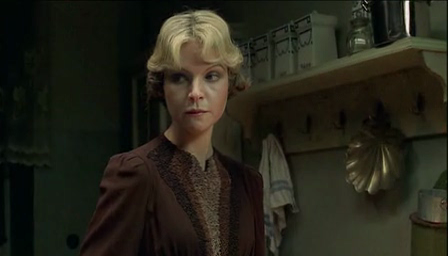face: (165, 48, 228, 131)
mcu: (1, 1, 448, 256)
person: (78, 8, 265, 256)
